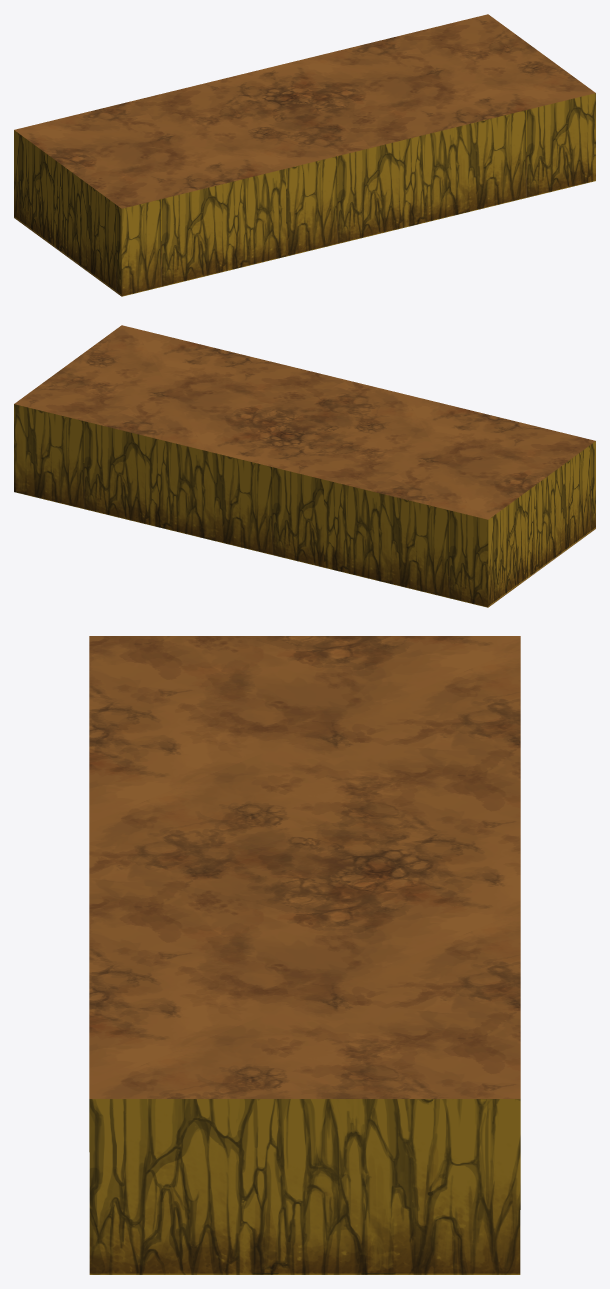
The model's file is cave 2 soil floor.FBX.
The picture shows the model from 3 angles, top to bottom: view 1: azimuth 30°, elevation 25°; view 2: azimuth 150°, elevation 25°; view 3: azimuth 270°, elevation 25°; orthographic projection. The views are drawn at different scales.
Parts seen in each view (by area): view 1: Plane036; view 2: Plane036; view 3: Plane036.
Part boxes in pixels (x1,y1,x2,y2): Plane036: [14, 14, 595, 296]; Plane036: [14, 325, 595, 607]; Plane036: [89, 636, 520, 1274].
Size of the model in its own units: 2397 by 425 by 943.
